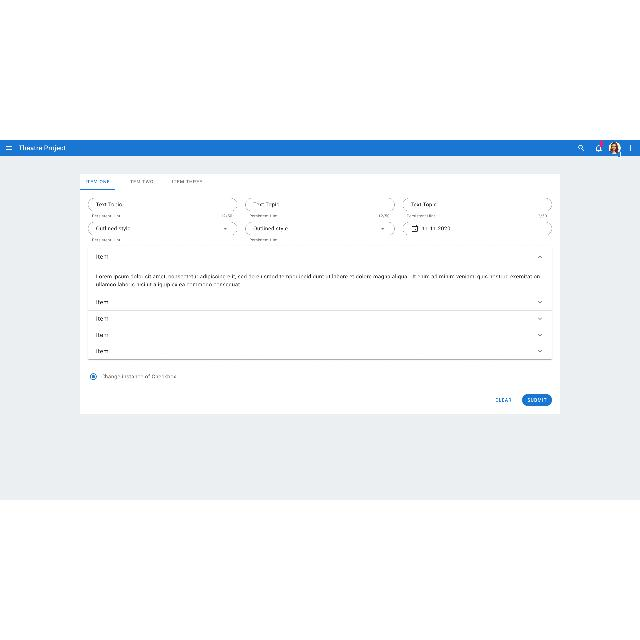QLabel: (94, 273, 540, 287), (100, 374, 176, 381), (18, 144, 68, 152), (126, 179, 154, 185), (85, 179, 112, 185), (171, 180, 203, 184), (526, 398, 548, 402), (95, 299, 109, 305), (95, 316, 109, 322), (95, 332, 109, 338), (95, 348, 109, 354), (95, 254, 108, 260), (494, 398, 512, 402)
VAppBar: (0, 140, 640, 158)
VBadge: (609, 142, 621, 156), (596, 141, 602, 153)
VBtn: (523, 394, 553, 406)
VCombobox: (88, 222, 238, 242), (245, 222, 395, 242)
VExpansionPanel: (90, 248, 550, 292), (88, 312, 550, 326), (89, 344, 551, 358), (90, 328, 550, 342), (90, 296, 550, 308)
VIcon: (578, 145, 584, 151), (6, 146, 14, 150), (630, 145, 632, 151)
VInlineDatepicker: (403, 222, 552, 236)
VRadio: (88, 372, 98, 382)
VTabs: (80, 174, 560, 416)
VTextField: (245, 197, 395, 219), (402, 198, 552, 218), (89, 198, 238, 218)
